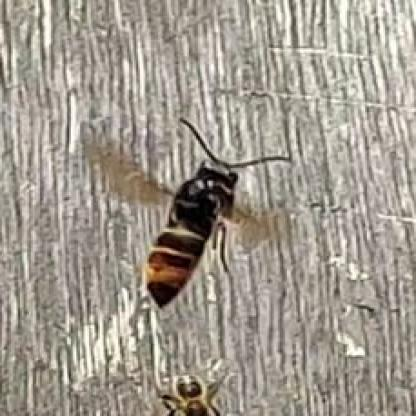Asian Hornet: (94, 114, 294, 313)
